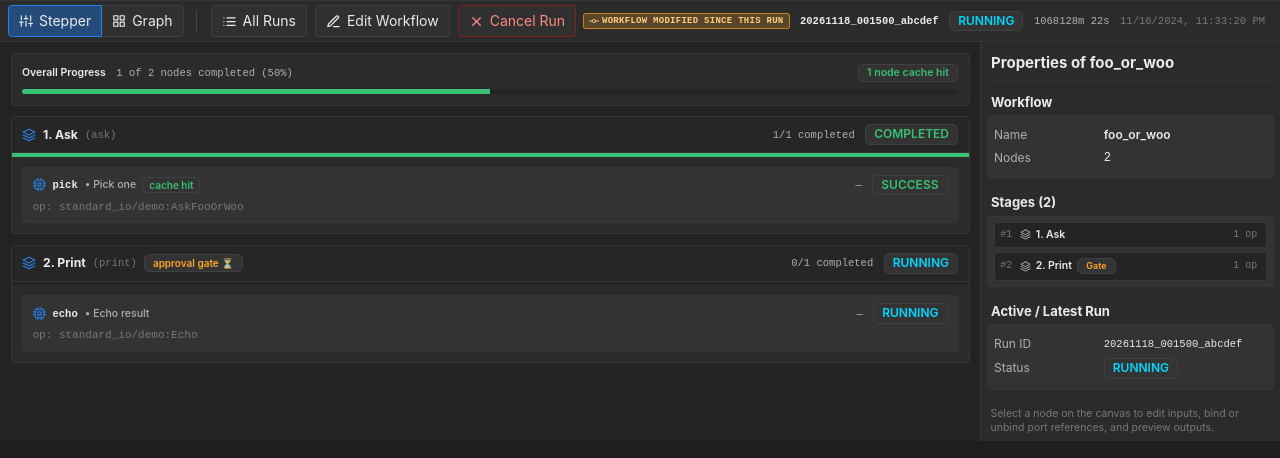
Test: GraphView component (Task 6.8) › toggles between Stepper and Graph views in RunDetail and displays live status updates
This screenshot has width=1280, height=458.
Later steps or results of the test are not shown.
Toggle to Graph view
Click the tab with test id "view-toggle-graph" at (142, 21), box x1=101 y1=5 x2=184 y2=37
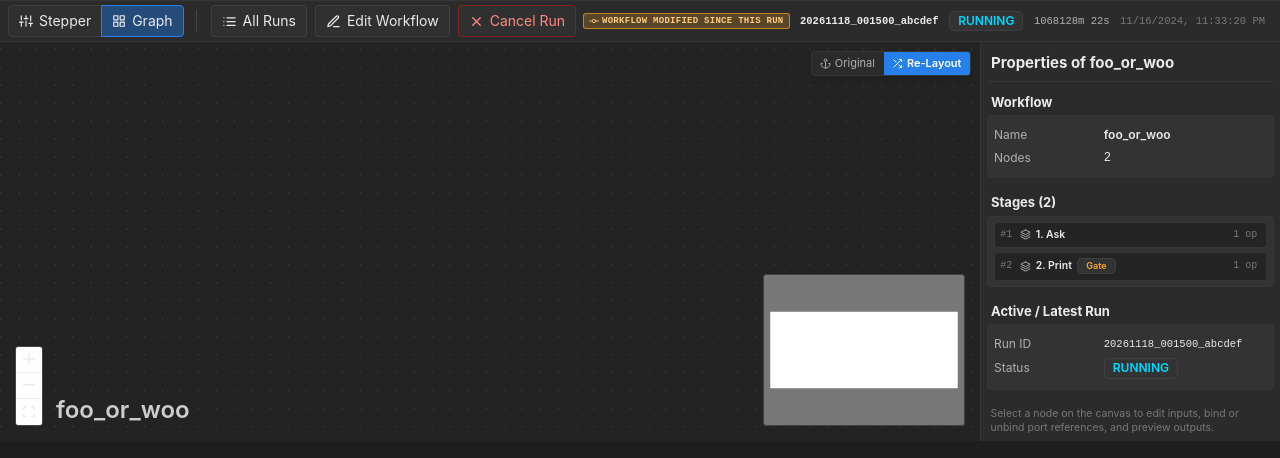
expect the element with test id "graph-view" is shown: met
